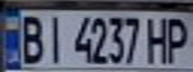2: (87, 12, 109, 64)
3: (106, 12, 127, 64)
4: (69, 12, 93, 64)
7: (121, 14, 145, 63)
B: (15, 11, 48, 64)
H: (145, 13, 172, 64)
I: (42, 11, 69, 64)
P: (163, 14, 193, 63)
